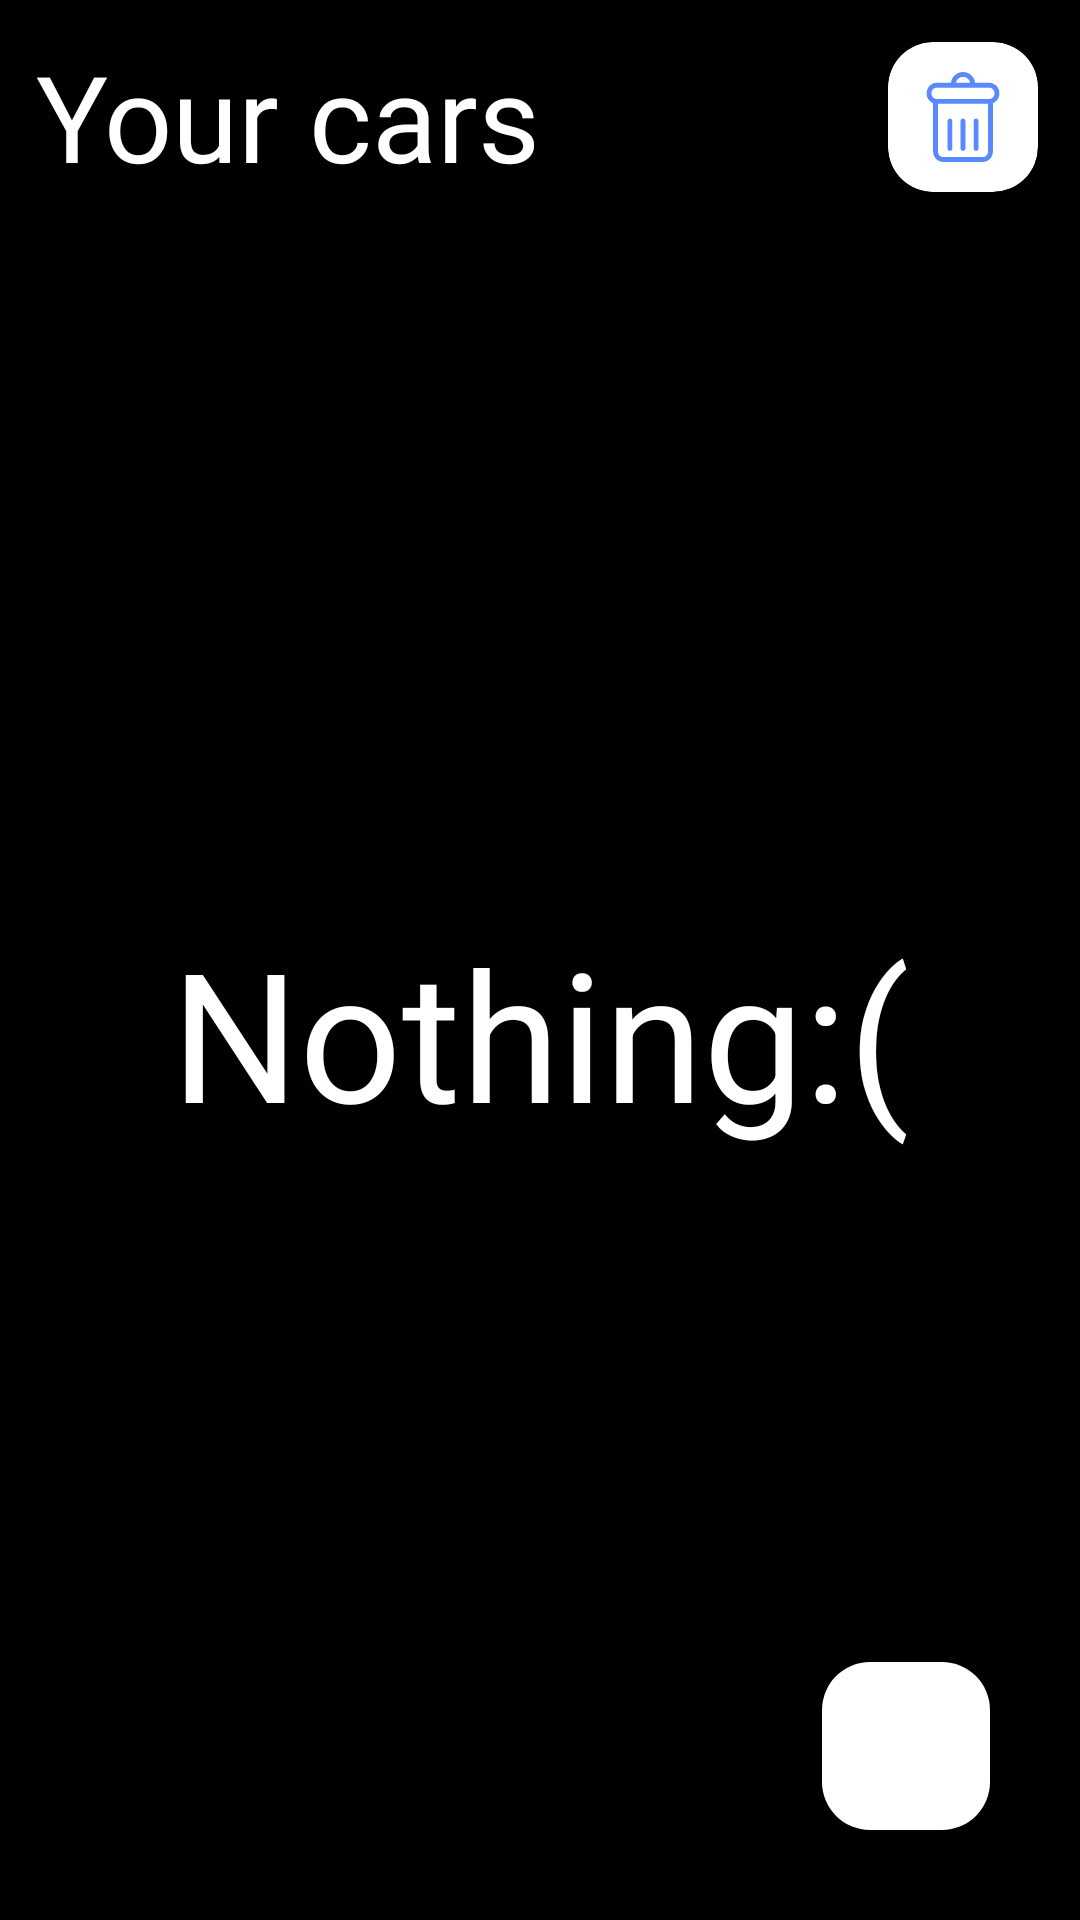

Icons on this 1080×1920 Android screen, each with the point to tap as (x,y):
delete: (963,117)
